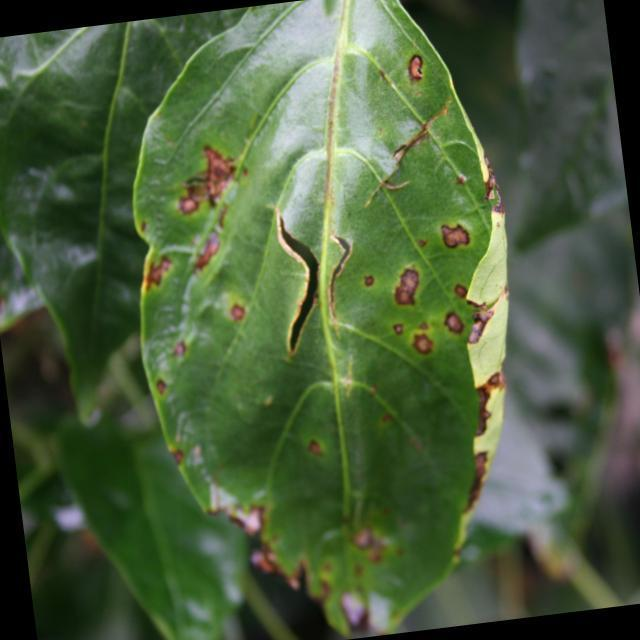Bacterial Spot: (146, 54, 504, 578)
